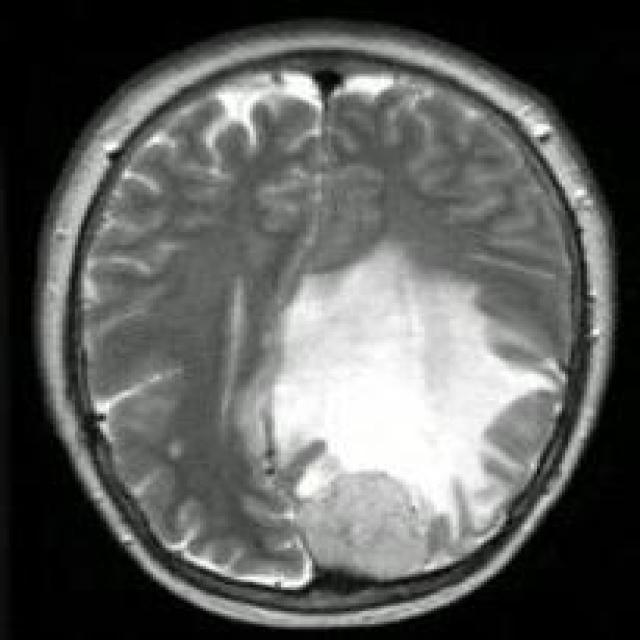Tumor-Cell: (282, 253, 530, 504)
